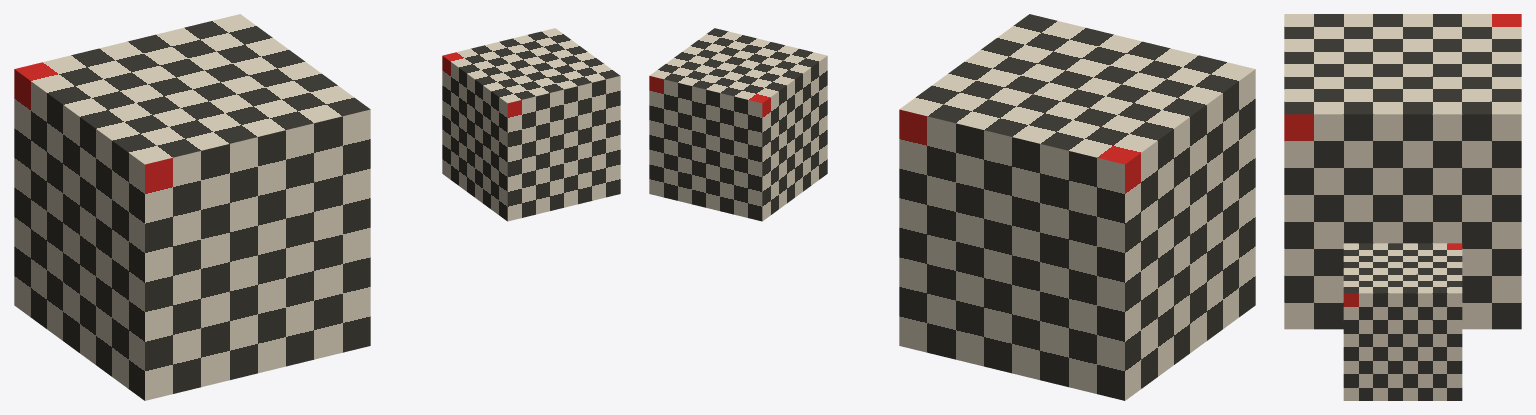
The model's file is crate.glb.
The picture shows the model from 3 angles, left to right: view 1: azimuth 30°, elevation 25°; view 2: azimuth 150°, elevation 25°; view 3: azimuth 270°, elevation 25°; orthographic projection. The views are drawn at different scales.
Parts seen in each view (by area): view 1: crate, crate_small; view 2: crate, crate_small; view 3: crate, crate_small.
Part boxes in pixels (<box>): crate: <box>14,14,370,400</box>; crate_small: <box>442,28,620,221</box>; crate: <box>899,14,1255,400</box>; crate_small: <box>649,28,827,221</box>; crate: <box>1284,14,1521,329</box>; crate_small: <box>1343,243,1462,400</box>.
Size of the model in its own units: 2.25 by 1 by 1.
1 material, 1 textured.
